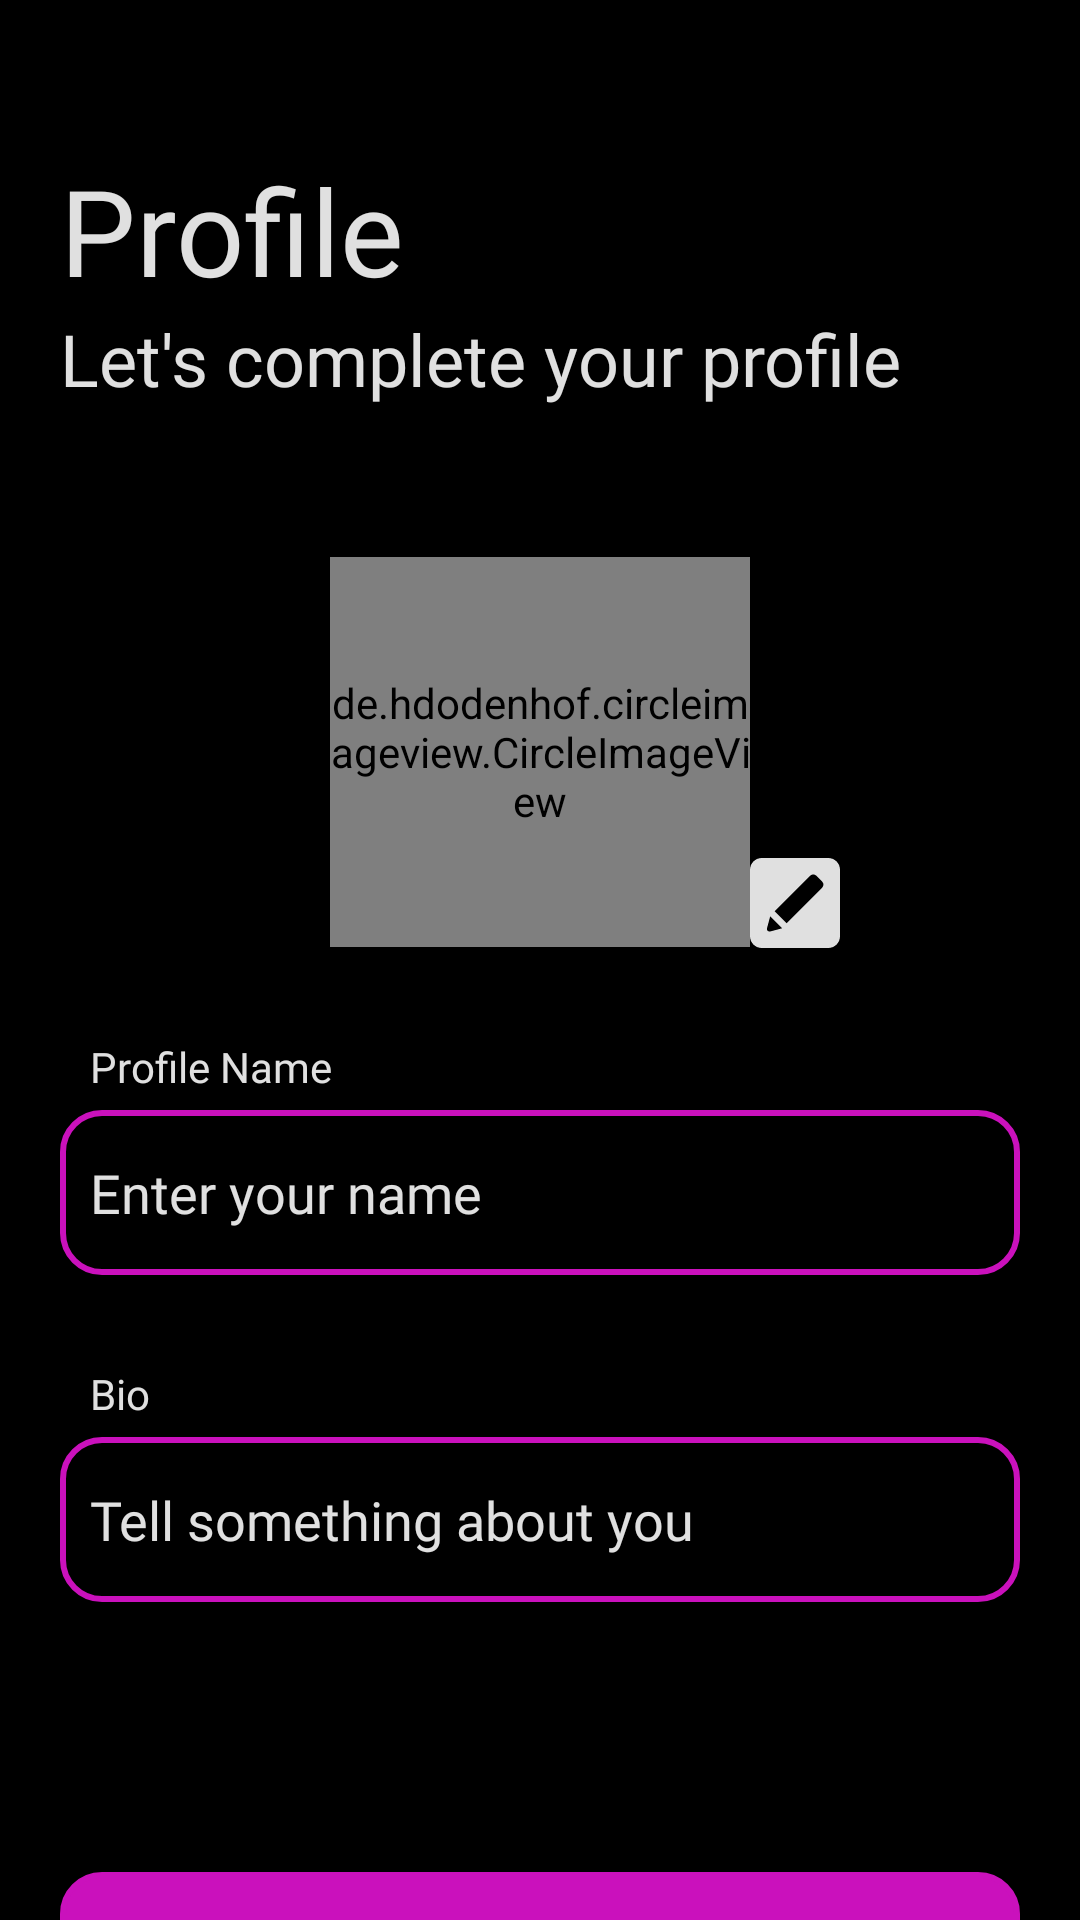

Screen size 1080px x 1920px. Icon name, then its box in pixels as rect(x1, y1, x2, y2):
pencil: rect(750, 858, 840, 948)
